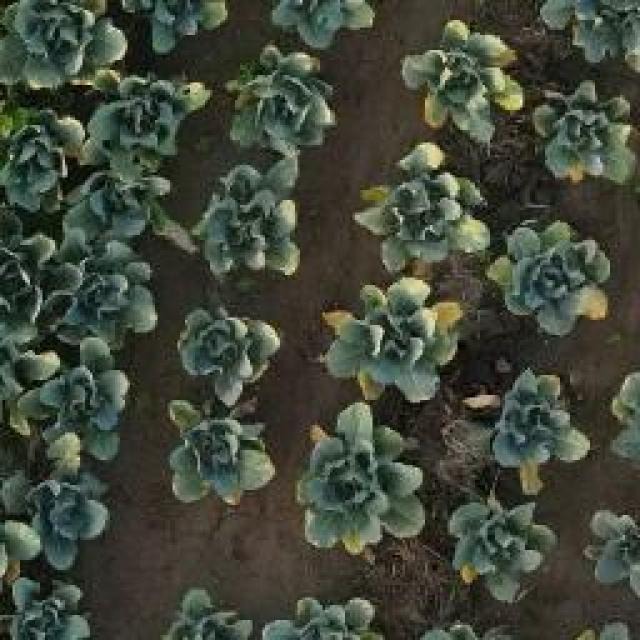cabbage: (316, 281, 455, 399), (301, 425, 426, 542), (372, 148, 486, 265), (0, 470, 112, 560), (490, 370, 584, 475), (510, 234, 610, 332), (227, 50, 330, 145), (453, 506, 549, 605), (208, 175, 302, 275), (418, 29, 510, 125), (180, 408, 277, 499), (64, 248, 164, 336), (178, 302, 280, 387), (32, 366, 130, 454), (0, 0, 108, 75), (552, 87, 632, 179), (0, 105, 69, 211), (107, 66, 199, 142), (0, 570, 92, 640), (75, 169, 177, 232), (550, 0, 640, 62), (0, 231, 46, 342), (137, 0, 228, 45), (281, 0, 377, 42)
